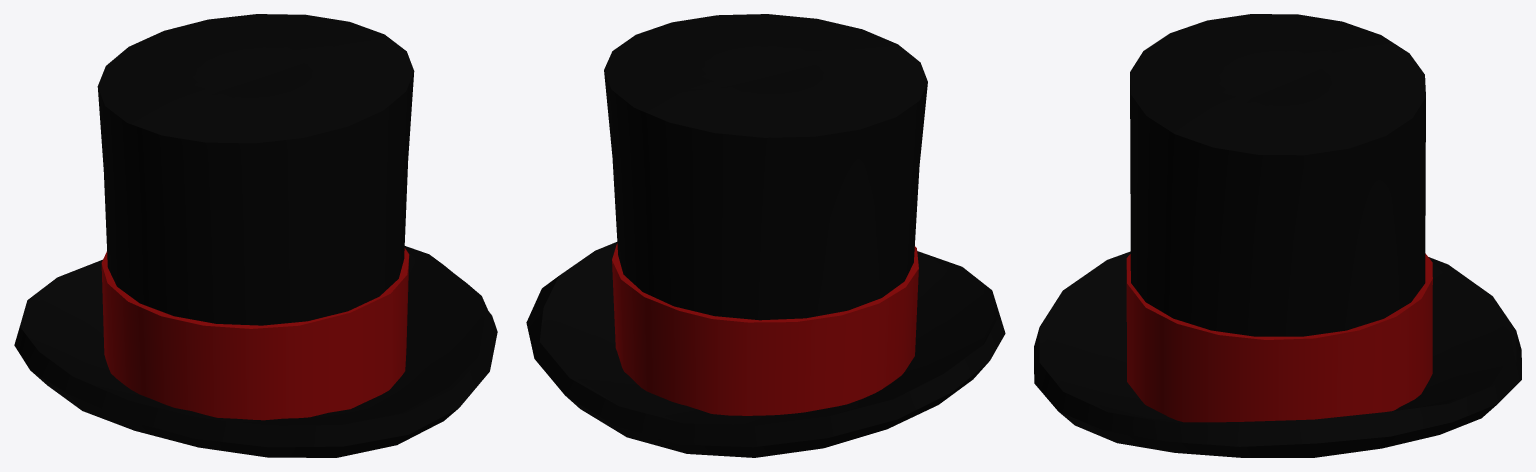
File: tophat.fbx
The picture shows the model from 3 angles, left to right: view 1: azimuth 30°, elevation 25°; view 2: azimuth 150°, elevation 25°; view 3: azimuth 270°, elevation 25°; orthographic projection. The views are drawn at different scales.
Visible parts, largest first — view 1: polytophat; view 2: polytophat; view 3: polytophat.
Boxes of the visible parts, x1=… form: polytophat: x1=14, y1=14, x2=497, y2=457; polytophat: x1=526, y1=14, x2=1005, y2=457; polytophat: x1=1034, y1=14, x2=1521, y2=457.
Bounding box in the file's own units: 3.28 × 2.27 × 3.28.
